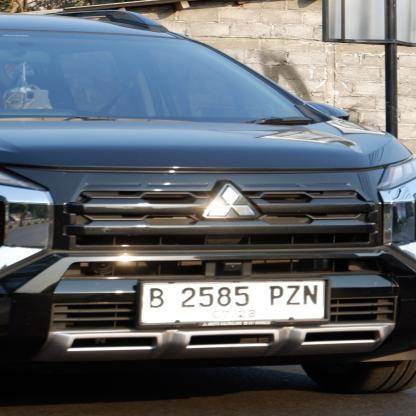Plat-Nomor: (137, 274, 333, 330)
